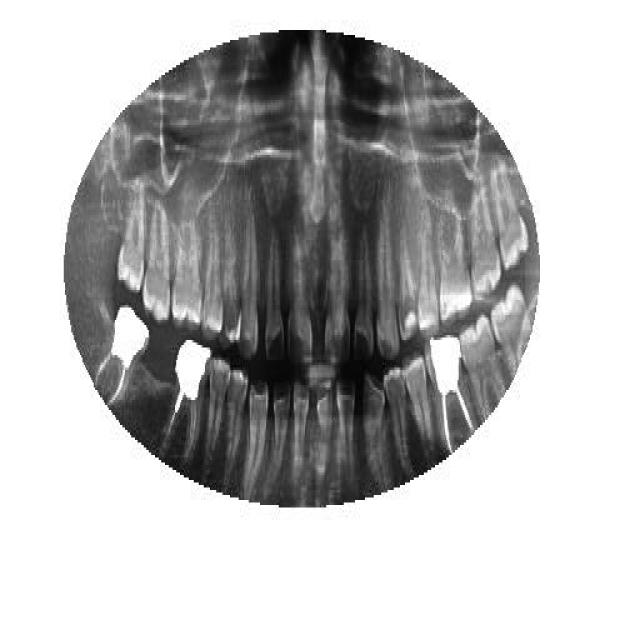Implant: (160, 340, 212, 458), (424, 335, 475, 455), (94, 302, 150, 408)
